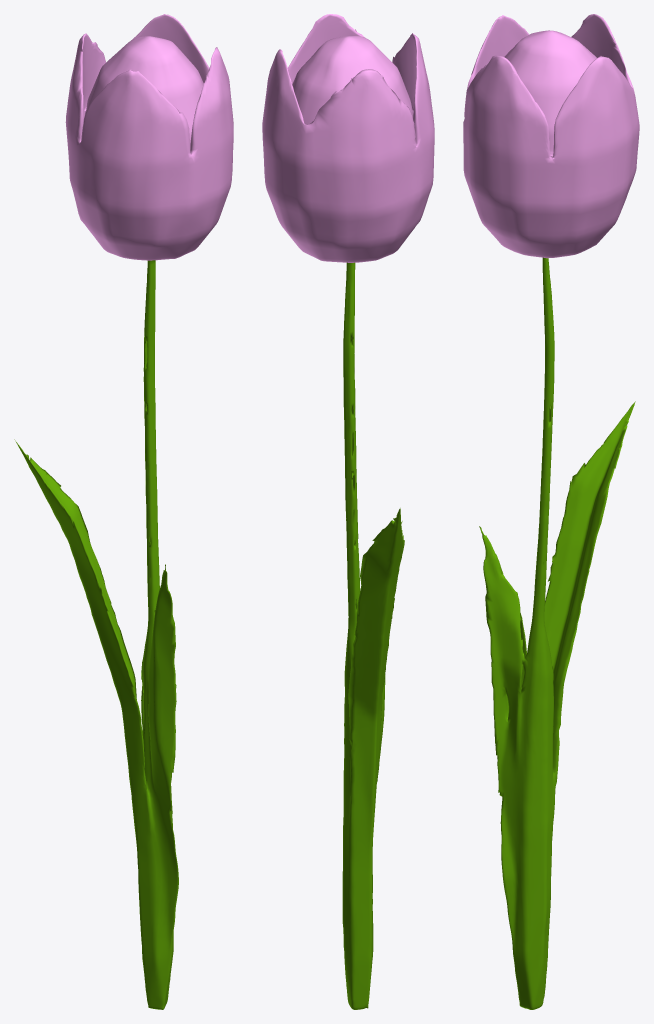
The model's file is pastelpink.glb.
3 renders of one model, left to right at view 1: azimuth 30°, elevation 25°; view 2: azimuth 150°, elevation 25°; view 3: azimuth 270°, elevation 25°, orthographic.
Parts seen in each view (by area): view 1: tulip_pastelpink; view 2: tulip_pastelpink; view 3: tulip_pastelpink.
Part boxes in pixels (x1=…): tulip_pastelpink: x1=14, y1=14, x2=233, y2=1009; tulip_pastelpink: x1=262, y1=14, x2=434, y2=1009; tulip_pastelpink: x1=463, y1=14, x2=639, y2=1009.
Bounding box in the file's own units: 0.303 × 1.7 × 0.278.
